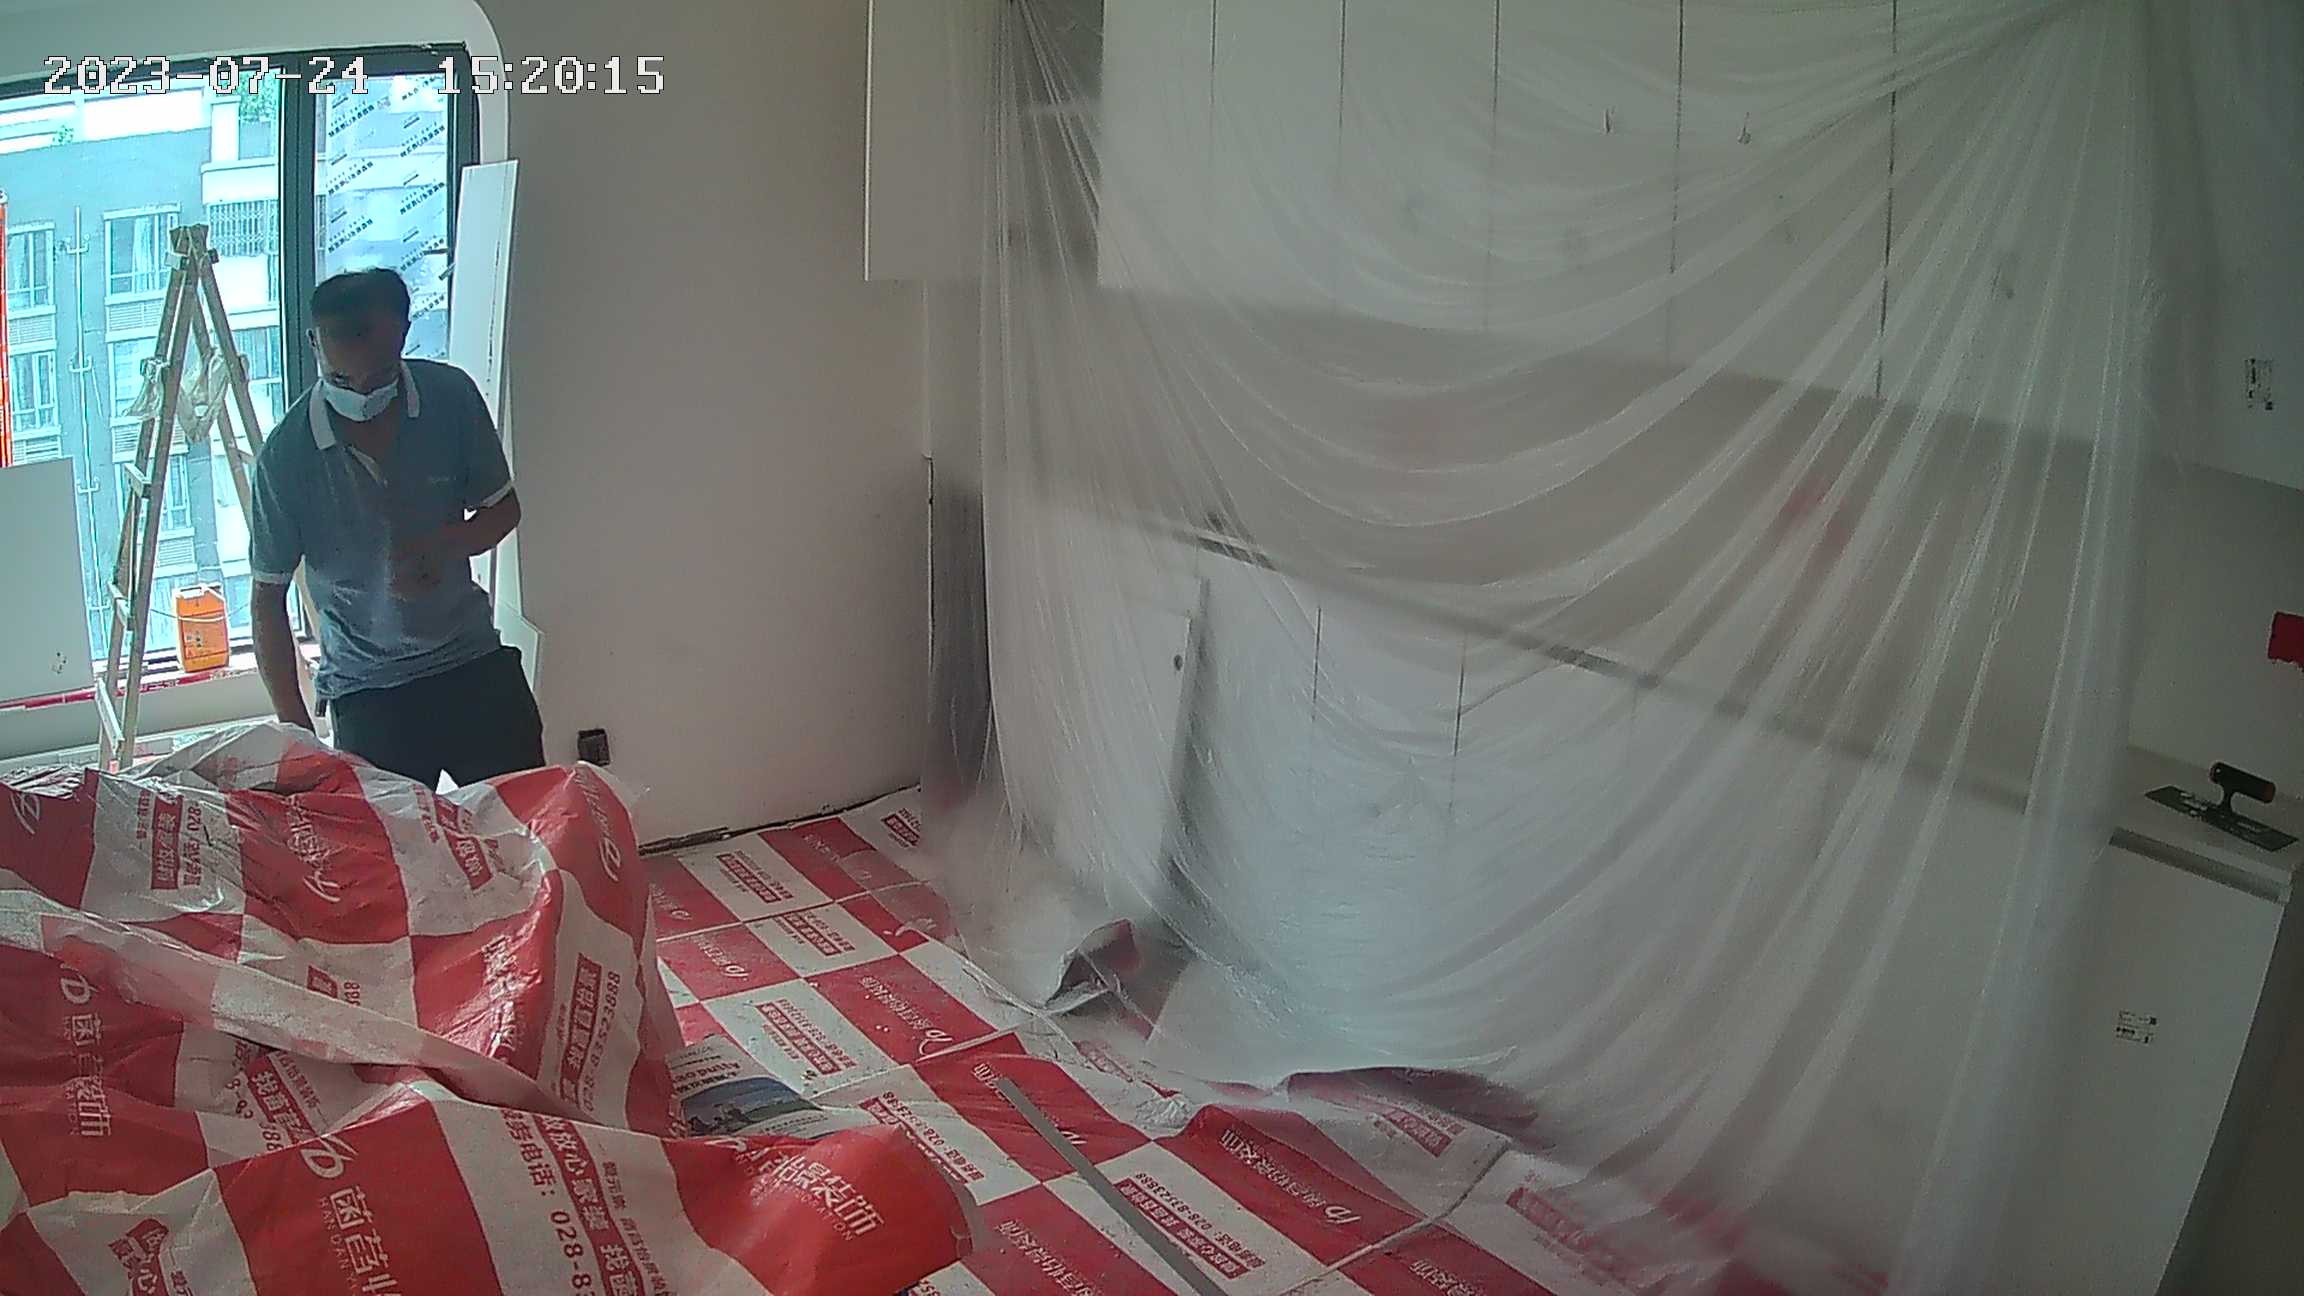people: (249, 269, 551, 779)
window: (2, 64, 462, 666)
